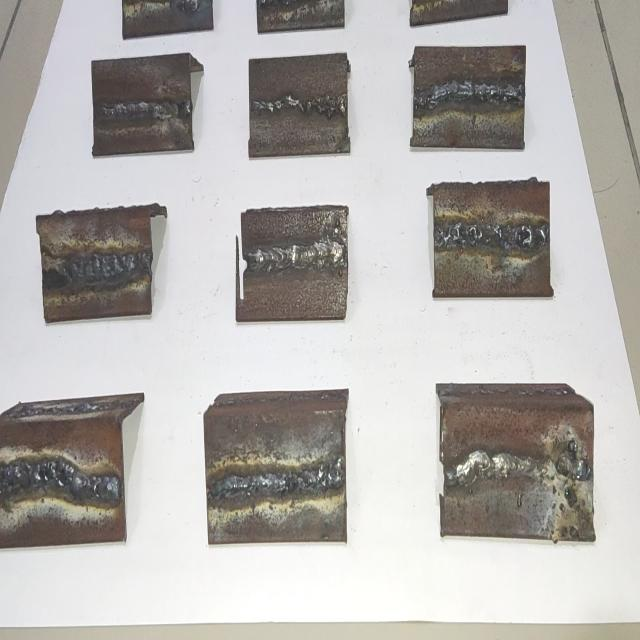Bad Weld: (447, 456, 544, 488)
Defect: (543, 429, 591, 526), (435, 223, 550, 248)
Good Weld: (0, 458, 121, 500), (212, 463, 342, 497), (419, 80, 522, 109), (249, 242, 344, 272), (65, 249, 150, 282), (95, 99, 190, 121), (252, 94, 346, 114)
